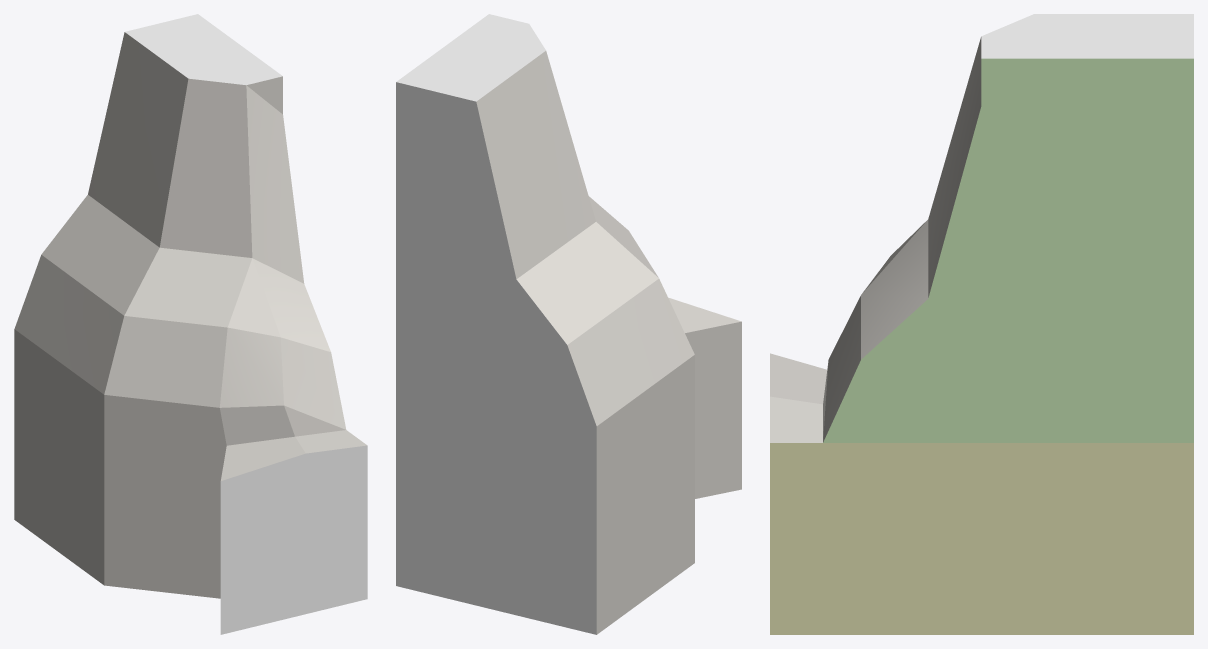
File: Cave_Edge_Straight_Base_2x2.glb
3 views of the same model, side by side, from view 1: azimuth 30°, elevation 25°; view 2: azimuth 150°, elevation 25°; view 3: azimuth 270°, elevation 25° (orthographic). The views are drawn at different scales.
Parts seen in each view (by area): view 1: Cave_Edge_Straight_Base_2x2; view 2: Cave_Edge_Straight_Base_2x2; view 3: Cave_Edge_Straight_Base_2x2.
Part boxes in pixels (x1,y1,x2,y2): Cave_Edge_Straight_Base_2x2: [14, 14, 367, 634]; Cave_Edge_Straight_Base_2x2: [396, 14, 741, 634]; Cave_Edge_Straight_Base_2x2: [770, 14, 1193, 634].
Size of the model in its own units: 125 by 300 by 200.
